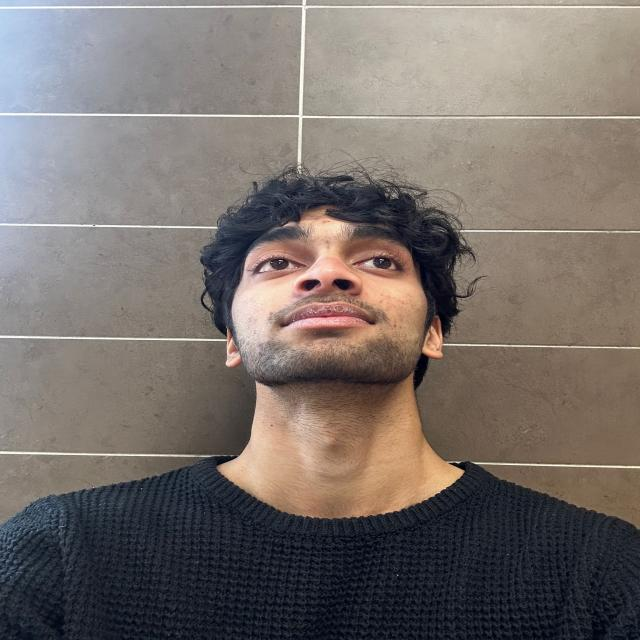nocap: (139, 158, 508, 297)
